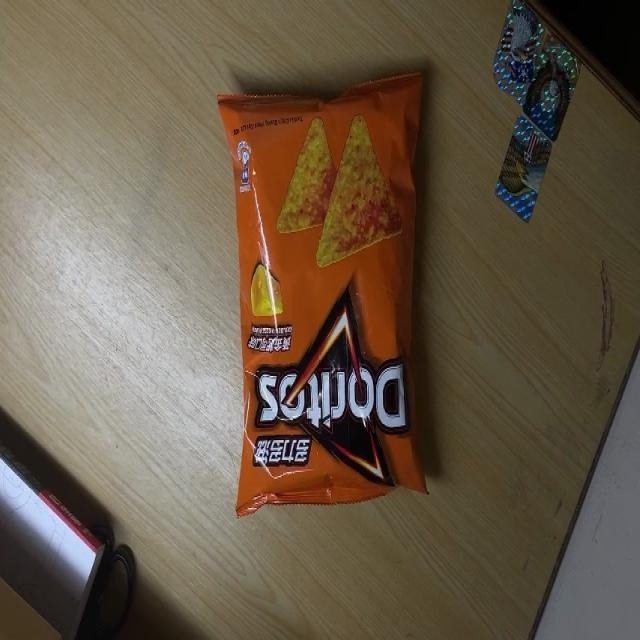Doritos: (215, 81, 435, 521)
